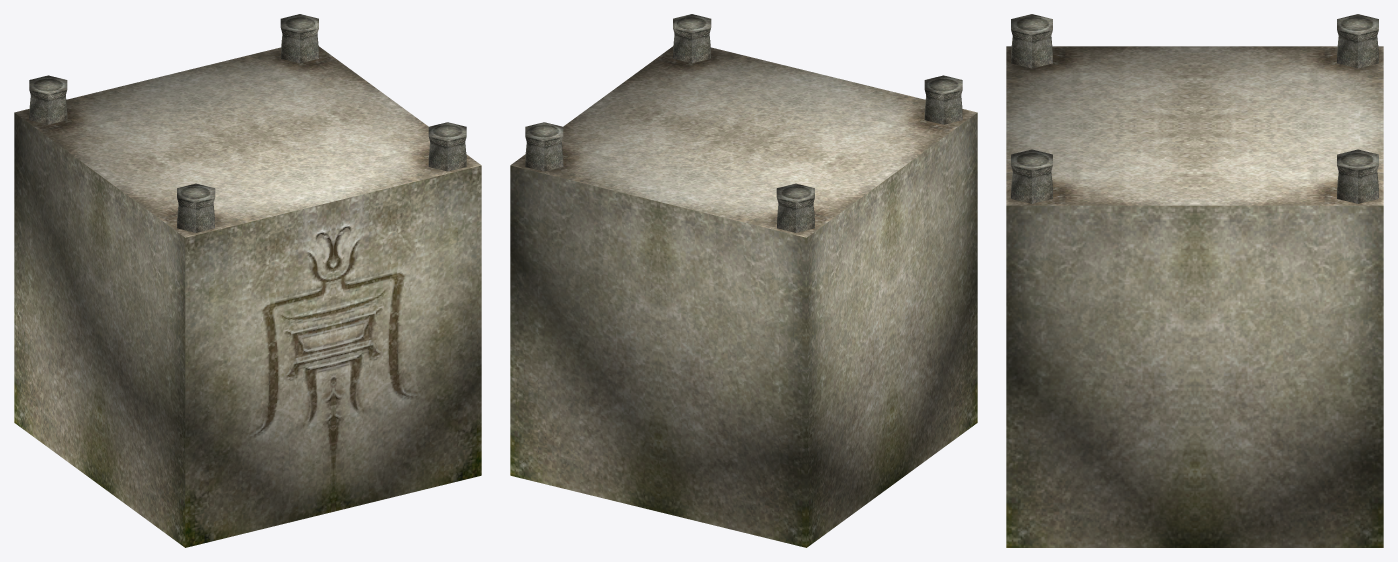
Rendered from landmark_grandstone02.fbx.
3 renders of one model, left to right at view 1: azimuth 30°, elevation 25°; view 2: azimuth 150°, elevation 25°; view 3: azimuth 270°, elevation 25°, orthographic. The views are drawn at different scales.
Visible parts, largest first — view 1: Box02; view 2: Box02; view 3: Box02.
Part boxes in pixels (bbox=[...]): Box02: bbox=[14, 14, 481, 547]; Box02: bbox=[510, 14, 977, 547]; Box02: bbox=[1006, 14, 1383, 547].
Size of the model in its own units: 4.74 by 5.21 by 4.74.
